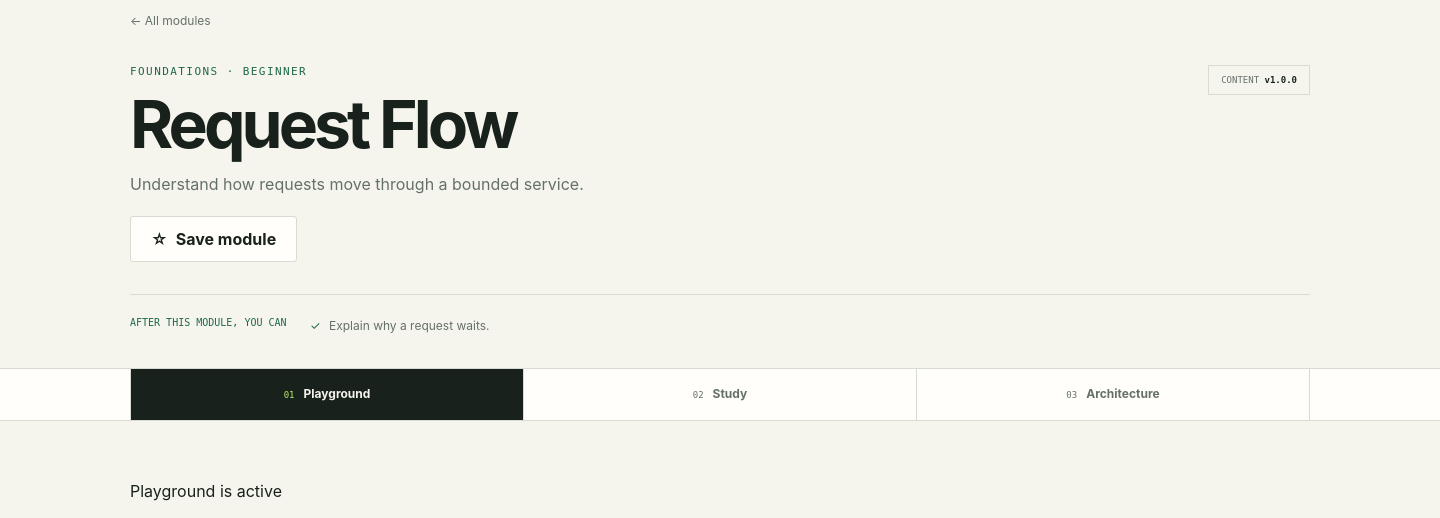
Test: ModuleShell › mounts panels on first visit and keeps visited panels mounted but hidden
Expected: the text "Playground is active" is shown, x1=130 y1=481 x2=282 y2=501
Expected: the text "Study is" is not shown
Click the tab "02Study": {"x": 720, "y": 394} x1=524 y1=369 x2=917 y2=420
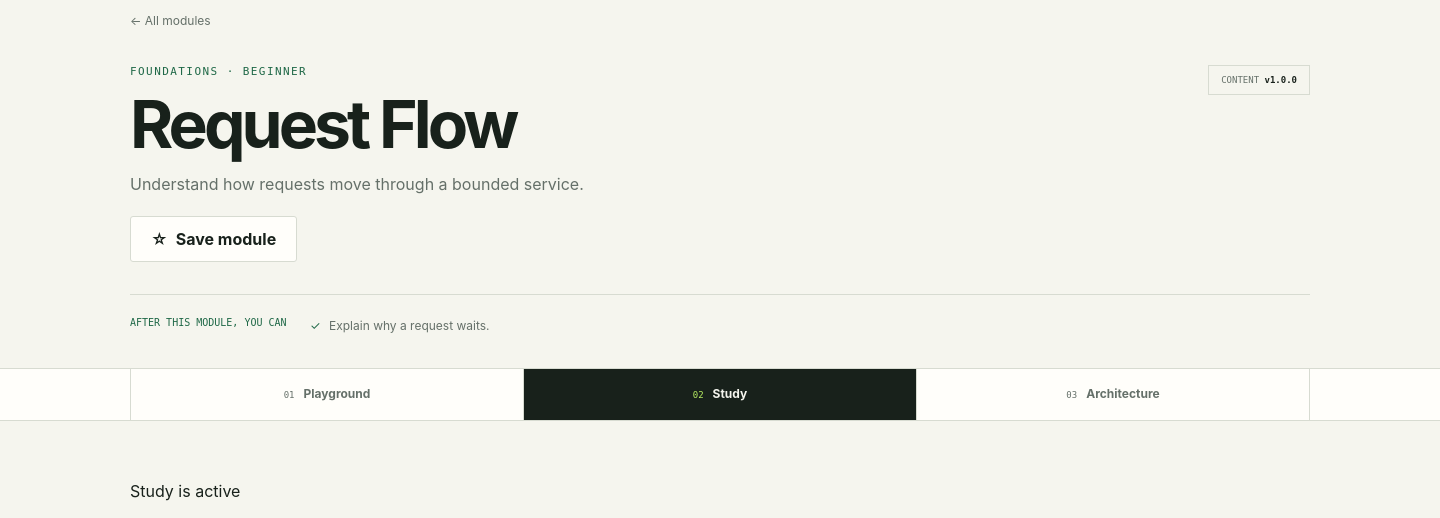
Expected: the text "Study is active" is shown, x1=130 y1=481 x2=240 y2=501
